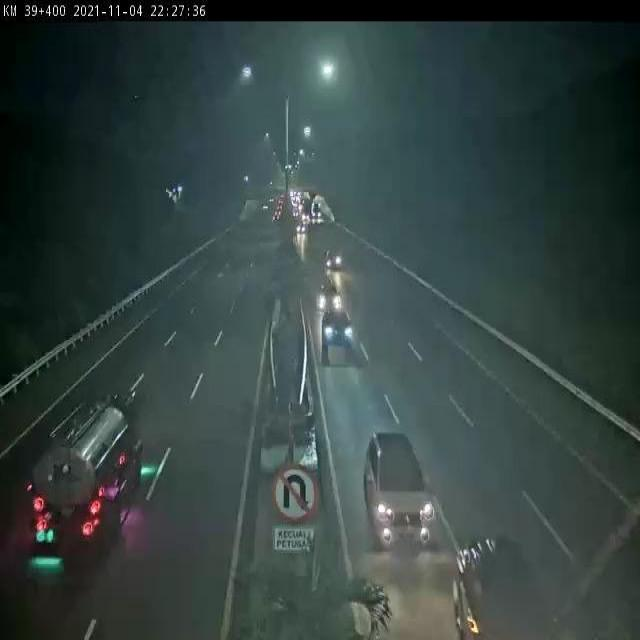car: (364, 429, 437, 551), (320, 310, 353, 354), (317, 282, 341, 310)
truck-l-: (30, 397, 143, 560)
